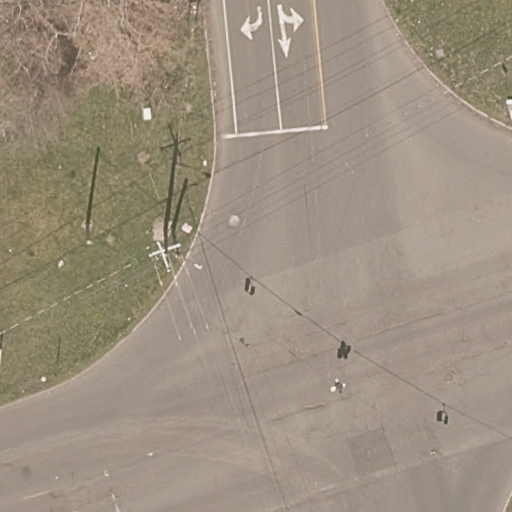DT: (148, 242, 181, 262)
